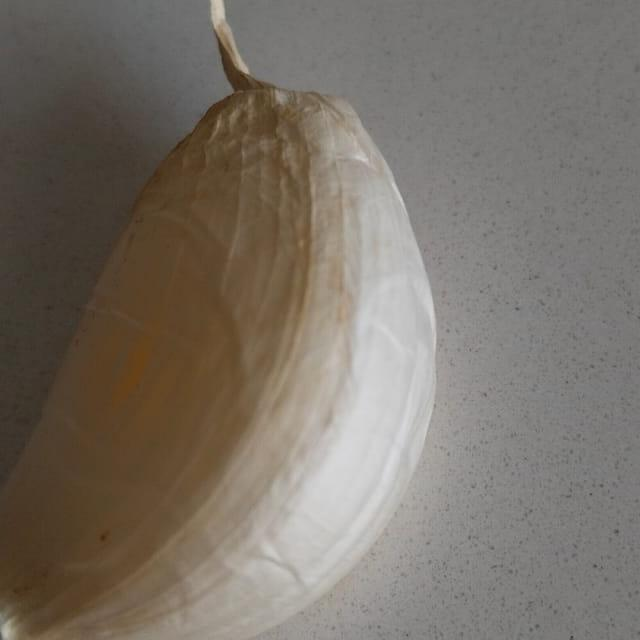garlic: (0, 5, 525, 640)
